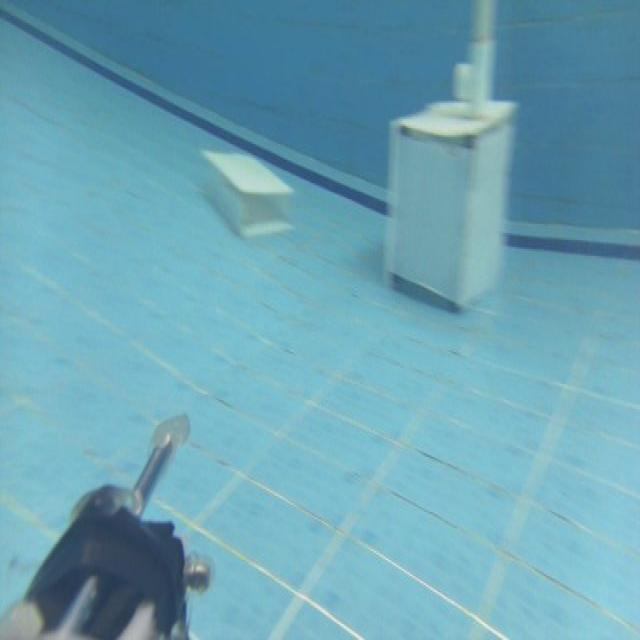Cube: (383, 93, 518, 311)
Cuboid: (192, 138, 298, 244)
